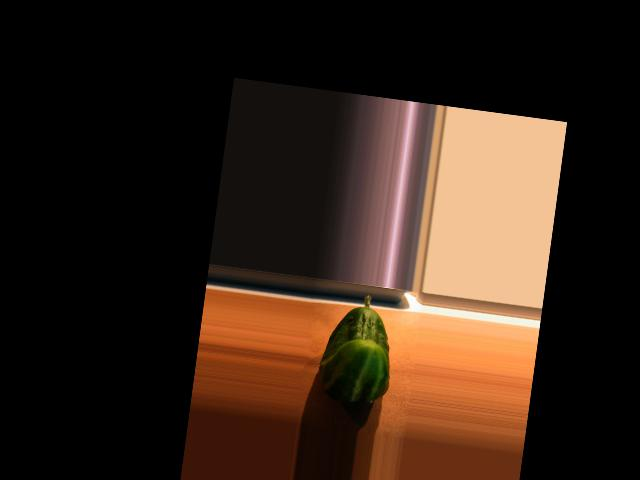cucumber: (316, 289, 401, 407)
